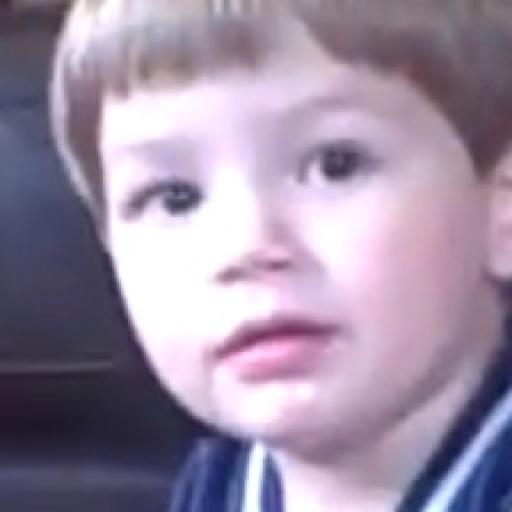Autism: (65, 17, 512, 512)
